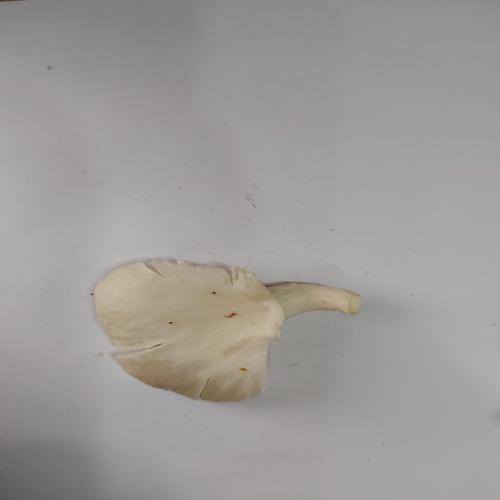Oyster Mushroom: (92, 257, 363, 403)
